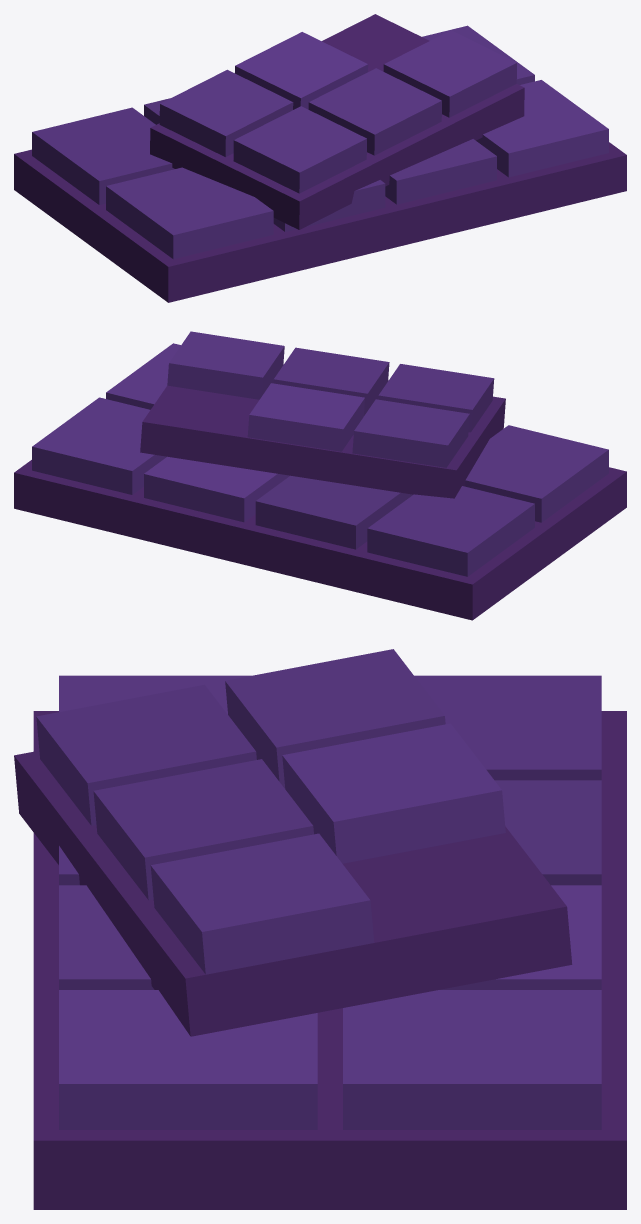
File: choco_block.glb
3 renders of one model, top to bottom at view 1: azimuth 30°, elevation 25°; view 2: azimuth 150°, elevation 25°; view 3: azimuth 270°, elevation 25°, orthographic. The views are drawn at different scales.
Parts seen in each view (by area): view 1: choco_block; view 2: choco_block; view 3: choco_block.
Part boxes in pixels (x1=…): choco_block: x1=14, y1=14, x2=626, y2=302; choco_block: x1=14, y1=331, x2=626, y2=620; choco_block: x1=14, y1=649, x2=626, y2=1209.
Bounding box in the file's own units: 2.4 × 0.5979 × 1.45.
